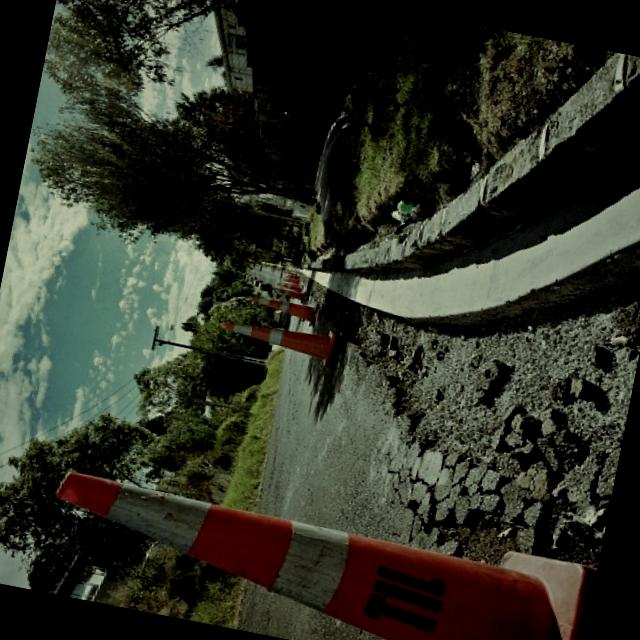cone: (7, 422, 599, 640), (204, 302, 342, 388), (245, 290, 322, 326)
